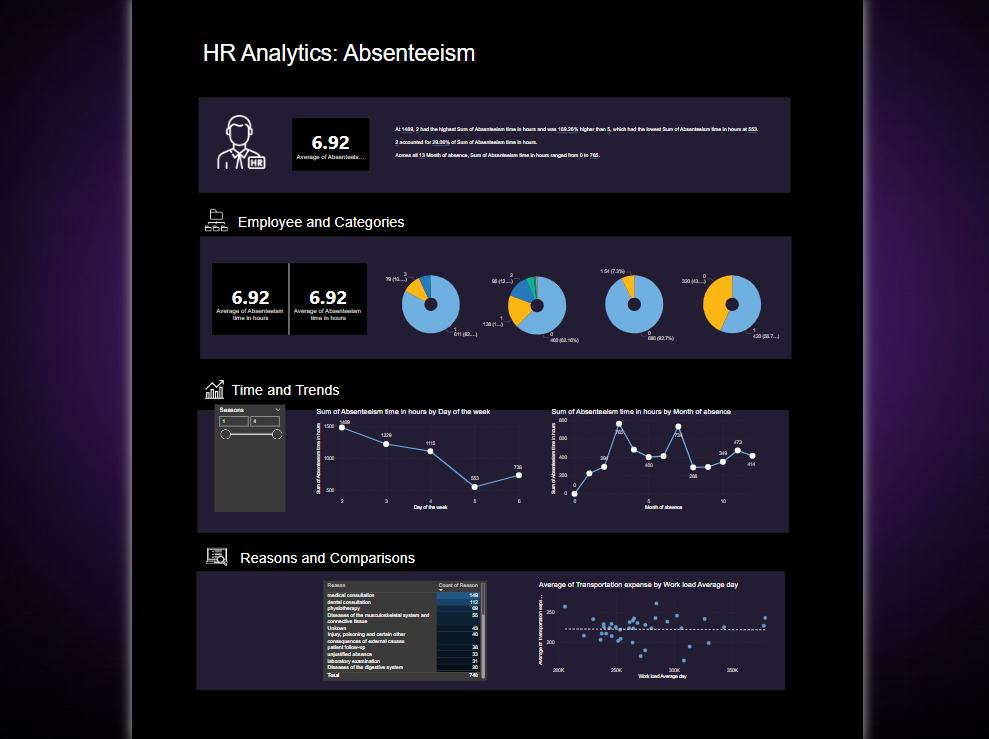

Layout of this report page (visuals, bound fields, positions):
{"tool":"powerbi","page":{"name":"Page 1","canvas":[1880,1920],"ordinal":0},"visuals":[{"type":"shape","box":[154.4,1467.8,1537.3,328],"z":0},{"type":"shape","box":[159.5,1054.9,1537.3,331.3],"z":1000},{"type":"shape","box":[165.3,249.6,1537.3,260.5],"z":2000},{"type":"shape","box":[165.8,608,1537.2,330.9],"z":3000},{"type":"card","fields":{"Values":["Avg(Query1.Absenteeism time in hours)"]},"box":[411.7,312,199.4,135.1],"z":4000},{"type":"donutChart","fields":{"Y":["CountNonNull(Query1.Education)"],"Category":["Query1.Education"]},"box":[612.8,686.3,309.9,211.8],"z":5000},{"type":"scatterChart","fields":{"X":["absenteeism_at_work.Work load Average day"],"Y":["absenteeism_at_work.Transportation expense"]},"box":[1042,1503.2,611.1,257.3],"z":6000},{"type":"donutChart","fields":{"Y":["CountNonNull(Query1.Social smoker)"],"Category":["Query1.Social smoker"]},"box":[1139.8,686.3,308.1,211.8],"z":7000},{"type":"donutChart","fields":{"Y":["CountNonNull(Query1.Social drinker)"],"Category":["Query1.Social drinker"]},"box":[1390.1,686.3,309.9,211.8],"z":8000},{"type":"lineChart","fields":{"Category":["absenteeism_at_work.Day of the week"],"Y":["Sum(absenteeism_at_work.Absenteeism time in hours)"]},"box":[470.7,1055.8,541,269.6],"z":9000},{"type":"lineChart","fields":{"Category":["absenteeism_at_work.Month of absence"],"Y":["Sum(absenteeism_at_work.Absenteeism time in hours)"]},"box":[1073,1055.8,537.5,269.6],"z":10000},{"type":"tableEx","fields":{"Values":["absenteeism_at_work.Reason","CountNonNull(absenteeism_at_work.Reason)"]},"box":[492.1,1503.2,421.3,257.3],"z":11000},{"type":"donutChart","fields":{"Y":["CountNonNull(absenteeism_at_work.Pet)"],"Category":["absenteeism_at_work.Pet"]},"box":[887.7,688.1,309.9,211.8],"z":12000},{"type":"card","fields":{"Values":["Avg(Query1.Absenteeism time in hours)"]},"box":[206.4,686.1,199.6,183.8],"z":13000},{"type":"card","fields":{"Values":["Avg(Query1.Absenteeism time in hours)"]},"box":[406,686.1,199.6,183.8],"z":14000},{"type":"textbox","box":[673.6,326.8,957.7,138.3],"z":15000},{"type":"shape","box":[274.7,686.1,260.9,183.8],"z":16000},{"type":"slicer","fields":{"Values":["absenteeism_at_work.Seasons"]},"box":[211.6,1048.8,182.1,276.6],"z":17000},{"type":"textbox","box":[176.9,106.1,739.7,80.4],"z":18000},{"type":"textbox","box":[266.9,553.2,450.3,54.7],"z":19000},{"type":"textbox","box":[251.5,984.8,472.8,54.7],"z":20000},{"type":"textbox","box":[273.4,1419.6,472.8,54.7],"z":21000},{"type":"image","box":[205.8,299.1,151.2,147.9],"z":22000},{"type":"image","box":[167.2,540.3,99.7,67.5],"z":23000},{"type":"image","box":[167.2,980.9,90.1,57.9],"z":24000},{"type":"image","box":[176.9,1408.6,83.6,64.3],"z":25000}]}

Visuals, with their boxes on the page's 1880x1920 design canvas (x1, y1, x2, y2). These are canvas units, not pixel positions in the 989x739 screenshot, which may show the page scaled, cropped or inside an application window:
shape: (x1=154, y1=1468, x2=1692, y2=1796)
shape: (x1=160, y1=1055, x2=1697, y2=1386)
shape: (x1=165, y1=250, x2=1703, y2=510)
shape: (x1=166, y1=608, x2=1703, y2=939)
card - Avg(Query1.Absenteeism time in hours): (x1=412, y1=312, x2=611, y2=447)
donutChart - CountNonNull(Query1.Education) x Query1.Education: (x1=613, y1=686, x2=923, y2=898)
scatterChart - absenteeism_at_work.Work load Average day x absenteeism_at_work.Transportation expense: (x1=1042, y1=1503, x2=1653, y2=1760)
donutChart - CountNonNull(Query1.Social smoker) x Query1.Social smoker: (x1=1140, y1=686, x2=1448, y2=898)
donutChart - CountNonNull(Query1.Social drinker) x Query1.Social drinker: (x1=1390, y1=686, x2=1700, y2=898)
lineChart - absenteeism_at_work.Day of the week x Sum(absenteeism_at_work.Absenteeism time in hours): (x1=471, y1=1056, x2=1012, y2=1325)
lineChart - absenteeism_at_work.Month of absence x Sum(absenteeism_at_work.Absenteeism time in hours): (x1=1073, y1=1056, x2=1610, y2=1325)
tableEx - absenteeism_at_work.Reason x CountNonNull(absenteeism_at_work.Reason): (x1=492, y1=1503, x2=913, y2=1760)
donutChart - CountNonNull(absenteeism_at_work.Pet) x absenteeism_at_work.Pet: (x1=888, y1=688, x2=1198, y2=900)
card - Avg(Query1.Absenteeism time in hours): (x1=206, y1=686, x2=406, y2=870)
card - Avg(Query1.Absenteeism time in hours): (x1=406, y1=686, x2=606, y2=870)
textbox: (x1=674, y1=327, x2=1631, y2=465)
shape: (x1=275, y1=686, x2=536, y2=870)
slicer - absenteeism_at_work.Seasons: (x1=212, y1=1049, x2=394, y2=1325)
textbox: (x1=177, y1=106, x2=917, y2=186)
textbox: (x1=267, y1=553, x2=717, y2=608)
textbox: (x1=252, y1=985, x2=724, y2=1040)
textbox: (x1=273, y1=1420, x2=746, y2=1474)
image: (x1=206, y1=299, x2=357, y2=447)
image: (x1=167, y1=540, x2=267, y2=608)
image: (x1=167, y1=981, x2=257, y2=1039)
image: (x1=177, y1=1409, x2=260, y2=1473)
